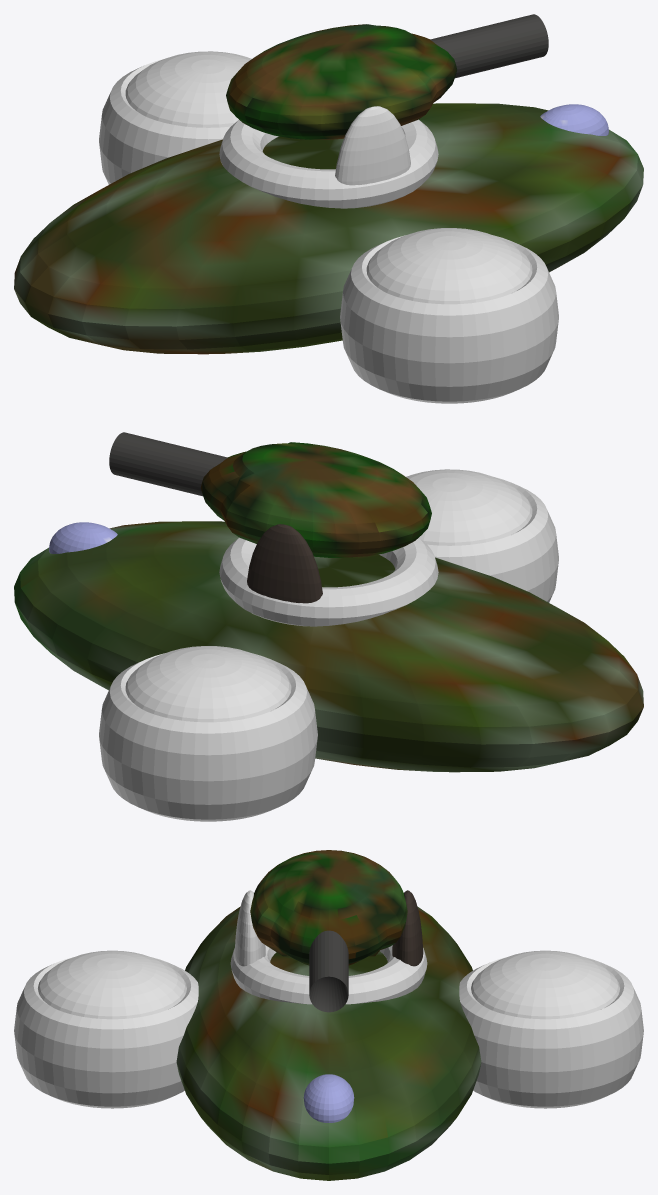
The model's file is HovertankAlpha.fbx.
The picture shows the model from 3 angles, top to bottom: view 1: azimuth 30°, elevation 25°; view 2: azimuth 150°, elevation 25°; view 3: azimuth 270°, elevation 25°; orthographic projection. The views are drawn at different scales.
Visible parts, largest first — view 1: Sphere, Torus.2, Sphere.3, Sphere.2, Torus.3, Sphere.1, Torus.1, Half Sphere.1, Cylinder, Sphere.4; view 2: Sphere, Torus.1, Sphere.3, Sphere.1, Torus.3, Sphere.2, Torus.2, Half Sphere.2, Cylinder, Sphere.4; view 3: Sphere, Torus.1, Torus.2, Sphere.3, Sphere.1, Sphere.2, Torus.3, Cylinder, Sphere.4, Half Sphere.1, Half Sphere.2.
Part boxes in pixels (box(x1,y1,x2,y2)): Sphere: box(14, 103, 643, 354); Torus.2: box(340, 235, 558, 403); Sphere.3: box(226, 24, 457, 139); Sphere.2: box(366, 228, 532, 304); Torus.3: box(219, 119, 438, 208); Sphere.1: box(125, 51, 251, 127); Torus.1: box(99, 58, 230, 184); Half Sphere.1: box(335, 106, 410, 185); Cylinder: box(430, 14, 548, 78); Sphere.4: box(540, 104, 608, 135); Sphere: box(14, 521, 643, 772); Torus.1: box(99, 653, 317, 821); Sphere.3: box(200, 442, 431, 557); Sphere.1: box(125, 646, 291, 722); Torus.3: box(219, 537, 438, 626); Sphere.2: box(406, 469, 532, 545); Torus.2: box(427, 476, 558, 602); Half Sphere.2: box(247, 524, 322, 603); Cylinder: box(109, 432, 227, 496); Sphere.4: box(49, 522, 117, 553); Sphere: box(176, 906, 481, 1180); Torus.1: box(459, 957, 643, 1108); Torus.2: box(14, 957, 198, 1108); Sphere.3: box(250, 850, 407, 965); Sphere.1: box(471, 950, 619, 1019); Sphere.2: box(38, 950, 186, 1019); Torus.3: box(230, 945, 427, 1004); Cylinder: box(309, 930, 348, 1012); Sphere.4: box(303, 1074, 354, 1122); Half Sphere.1: box(234, 890, 265, 966); Half Sphere.2: box(392, 890, 423, 966).
Bounding box in the file's own units: 8 × 3.29 × 8.
